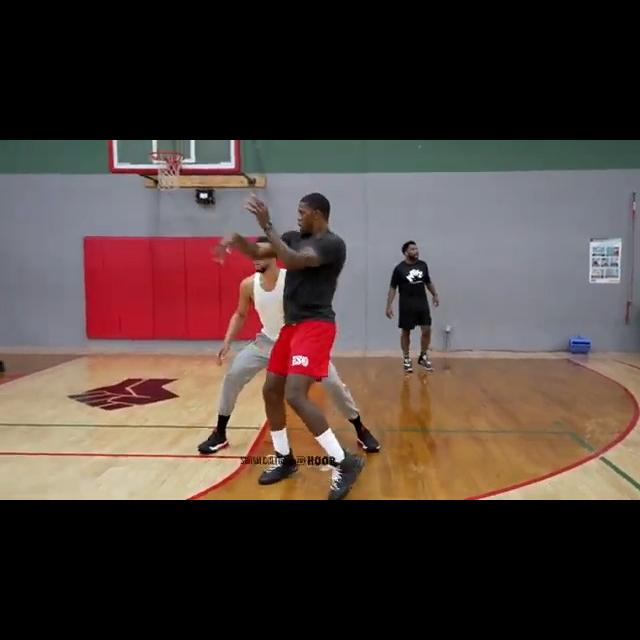hoop: (151, 151, 185, 194)
person: (217, 193, 371, 500), (195, 236, 382, 459), (383, 242, 440, 375)
